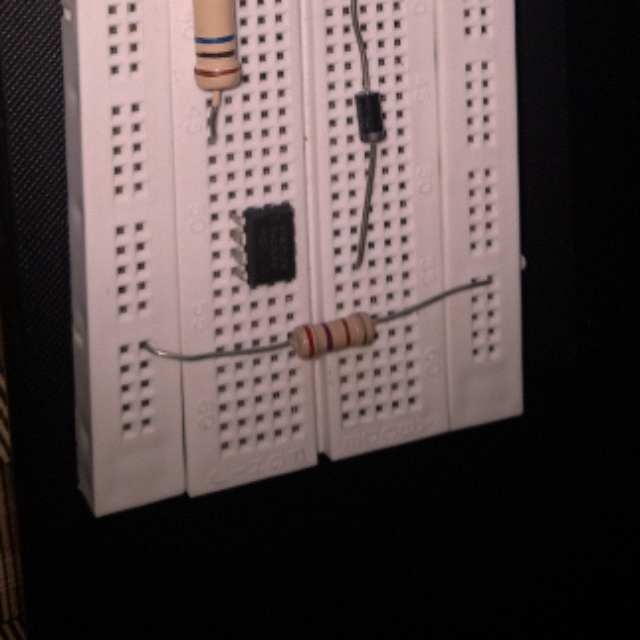resistor: (187, 0, 244, 89), (288, 309, 382, 361)
